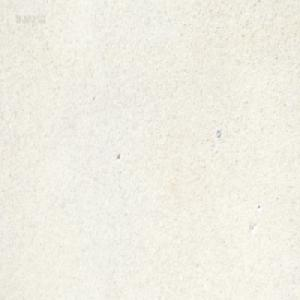Washer: (215, 128, 220, 138)
